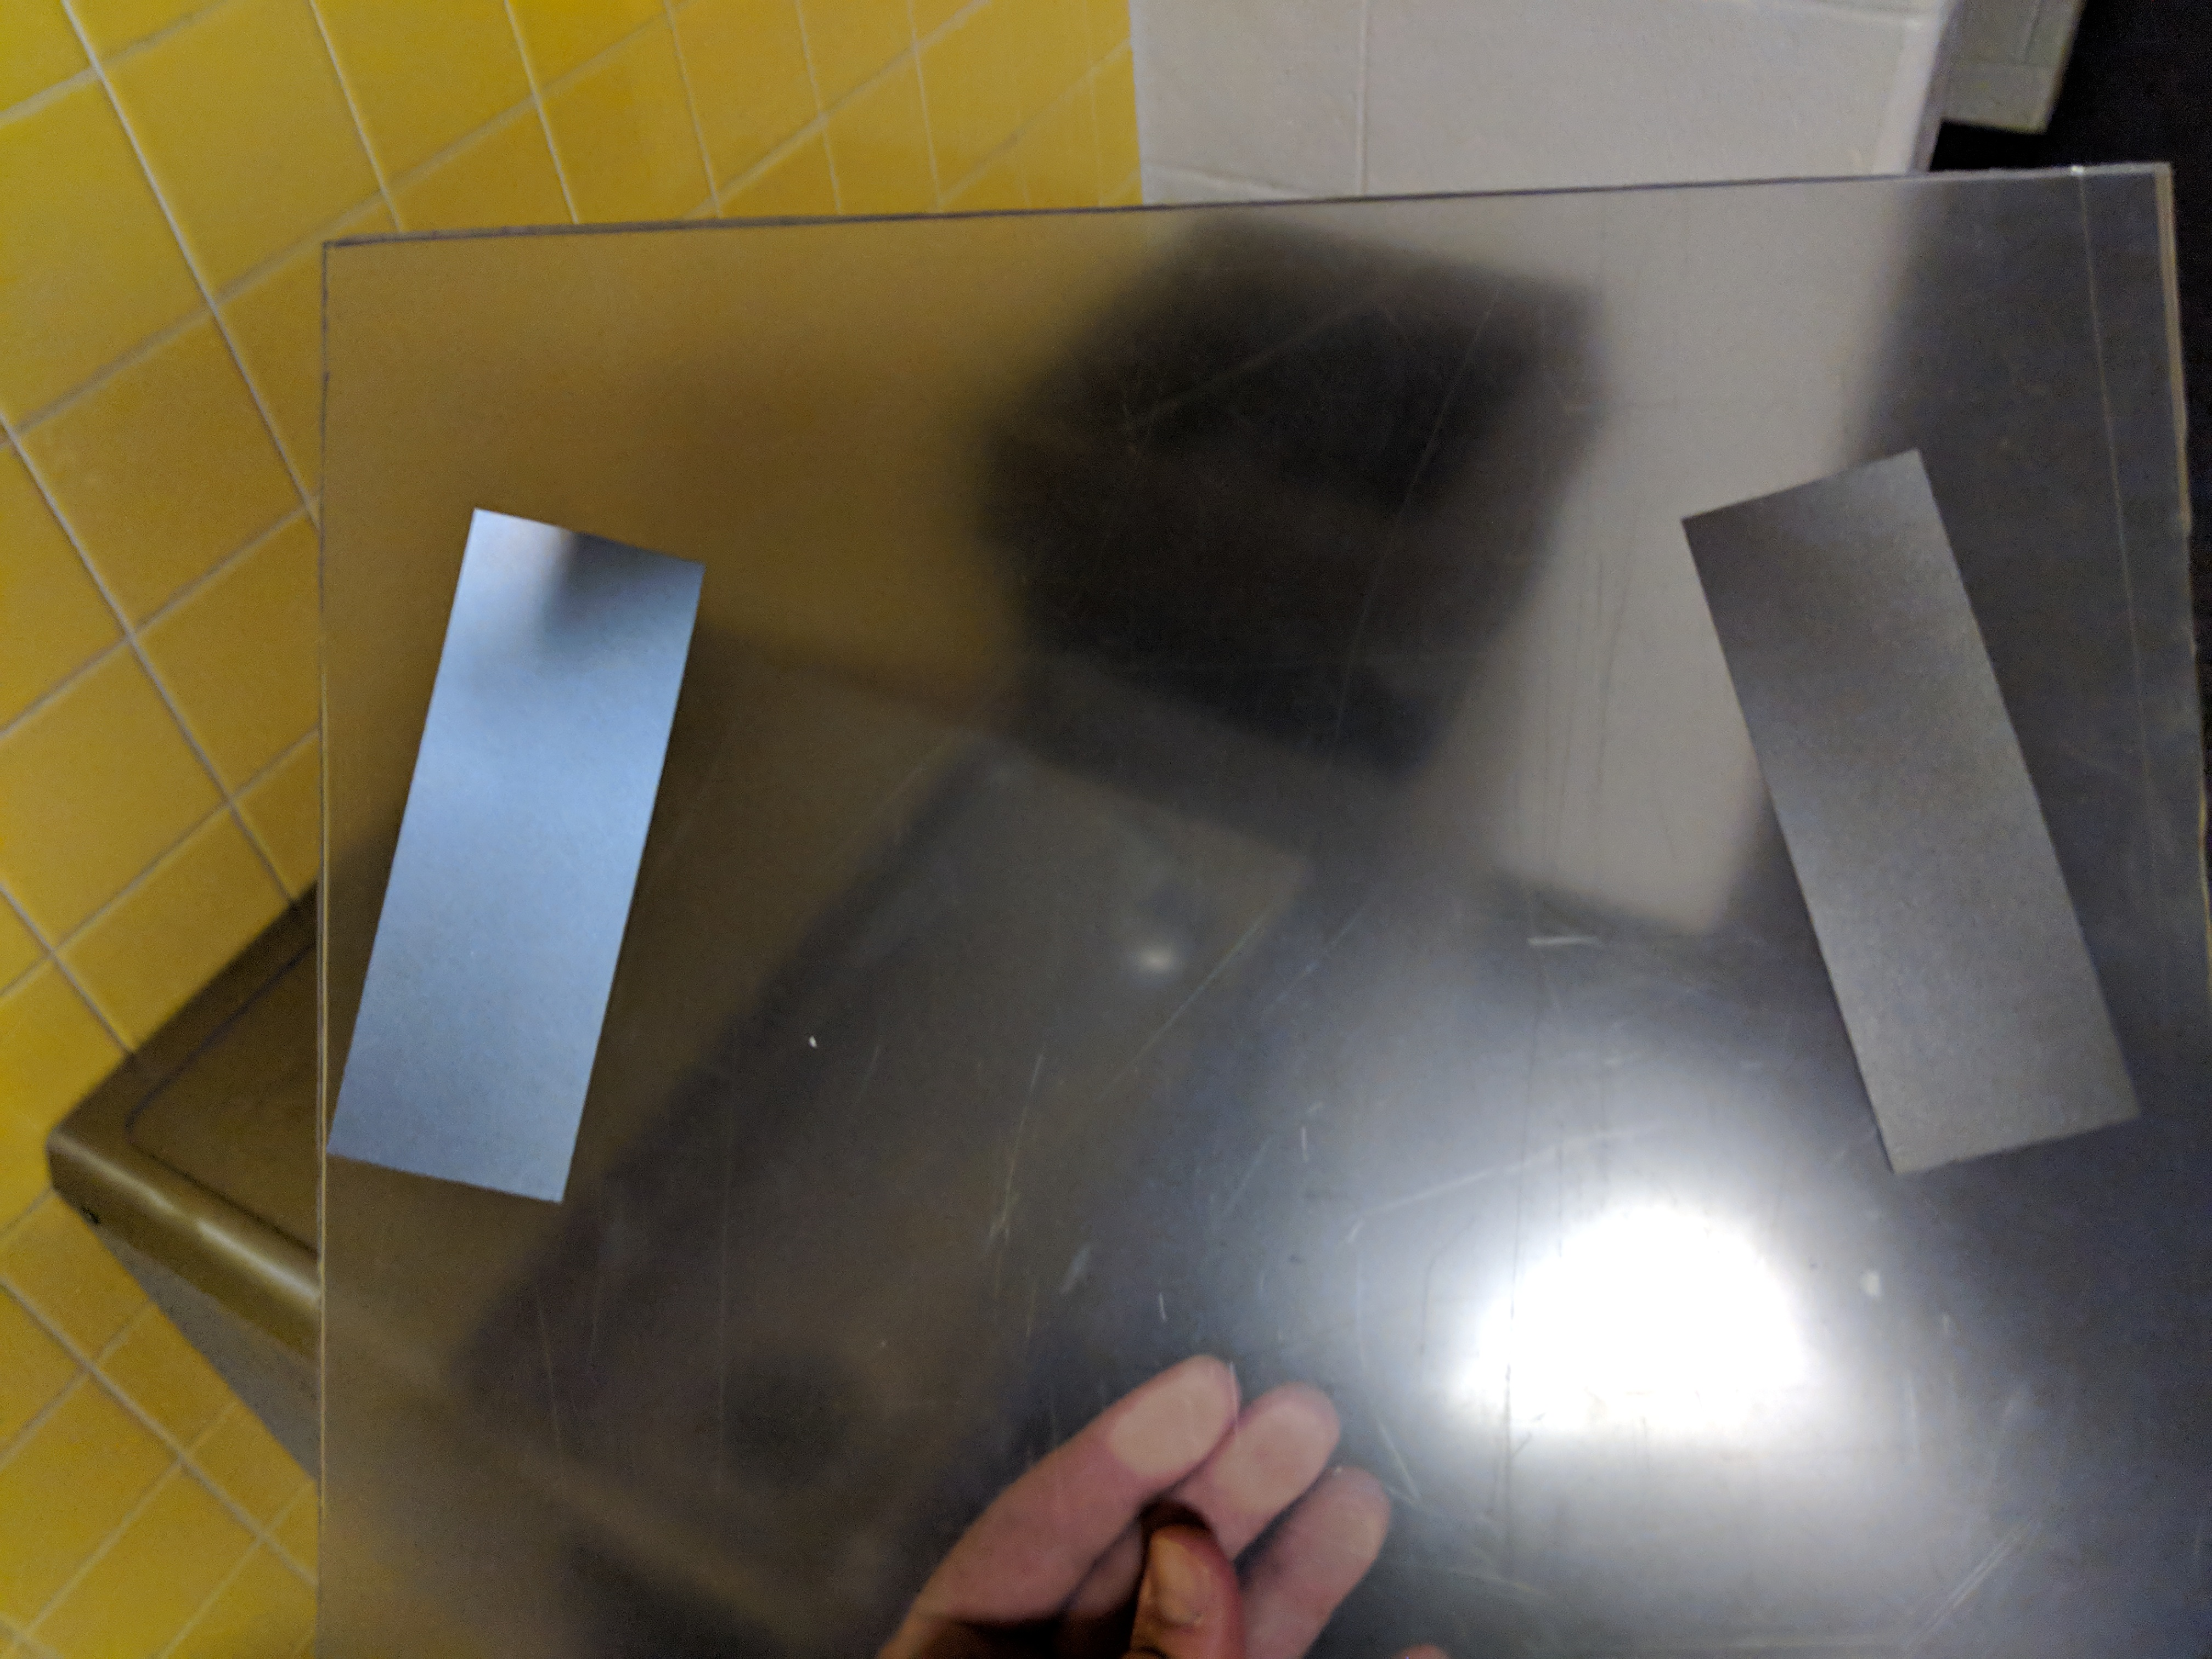vision_target: (296, 443, 2148, 1213)
